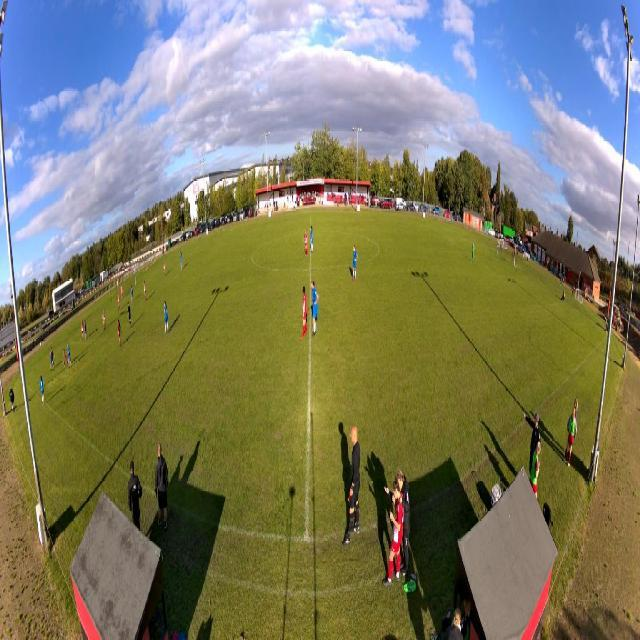player: (311, 279, 320, 338), (301, 286, 308, 341), (353, 246, 358, 281), (303, 230, 308, 258), (310, 226, 313, 253), (472, 241, 475, 263)
